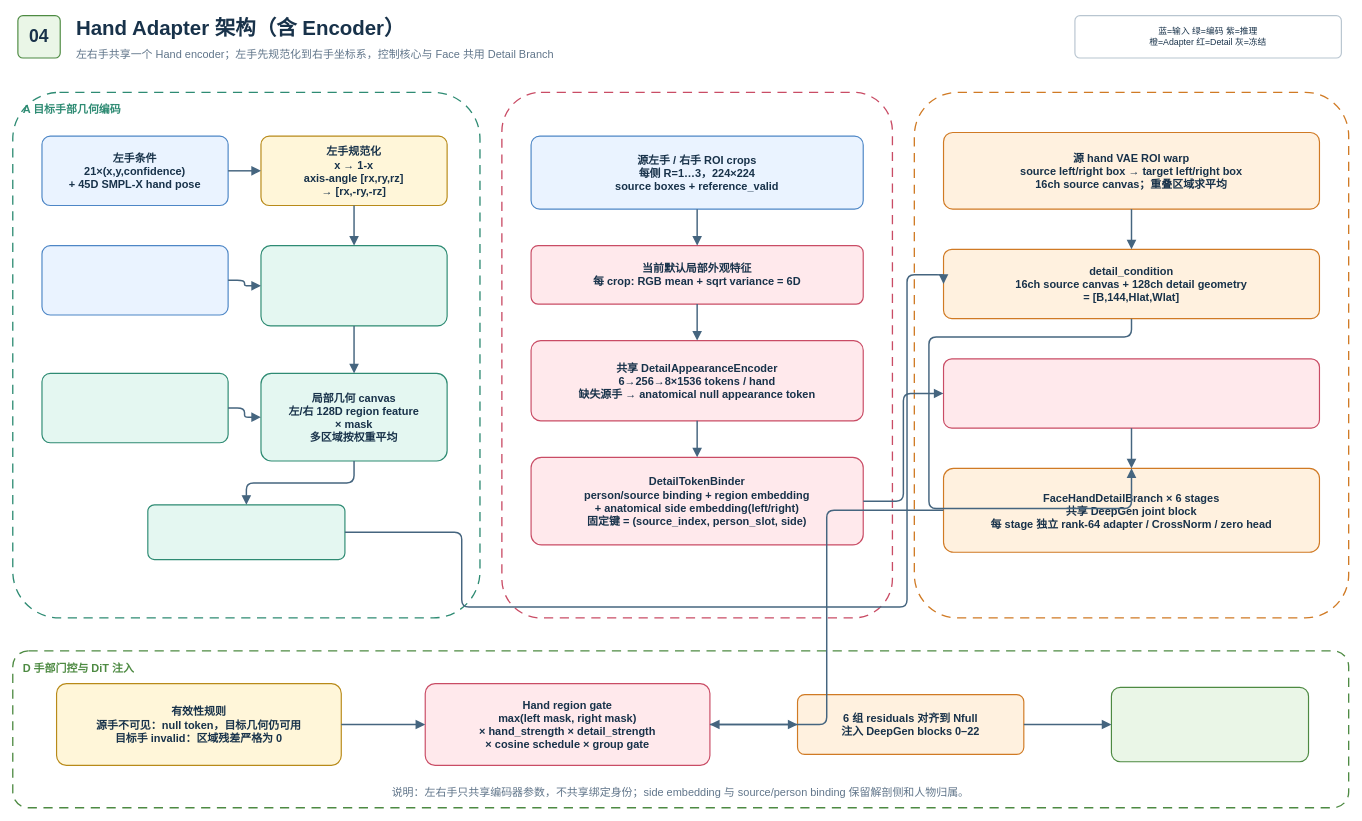
This 1362x821 diagram has some shape labels left out. Each missing label, with the box of its shape:
B 源手外观与绑定: (501, 91, 893, 618)
C Shared Detail Control: (913, 91, 1349, 618)
detail_tokens 最多 2 people × 2 hands × 8 tokens 作为独立 Detail context 的一部分: (943, 358, 1320, 428)
Hand geometry contribution [B,128,Hlat,Wlat]: (147, 504, 345, 560)
left/right target boxes + region_valid soft masks @ latent/token: (41, 372, 228, 443)
共享 Hand Encoder 输入 21×3 +45 =108D LayerNorm108 → Linear256 → SiLU → Linear128: (260, 245, 447, 326)
右手条件 21×(x,y,confidence) + 45D pose 保持原坐标: (41, 245, 228, 315)
输出 手部结构/外观细节增强 禁止跨人物或跨左右手借用: (1110, 686, 1309, 762)
